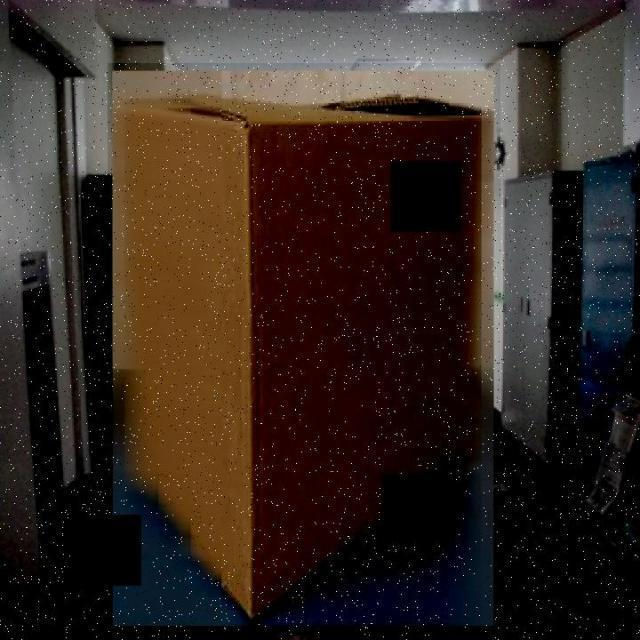box: (108, 63, 500, 636)
